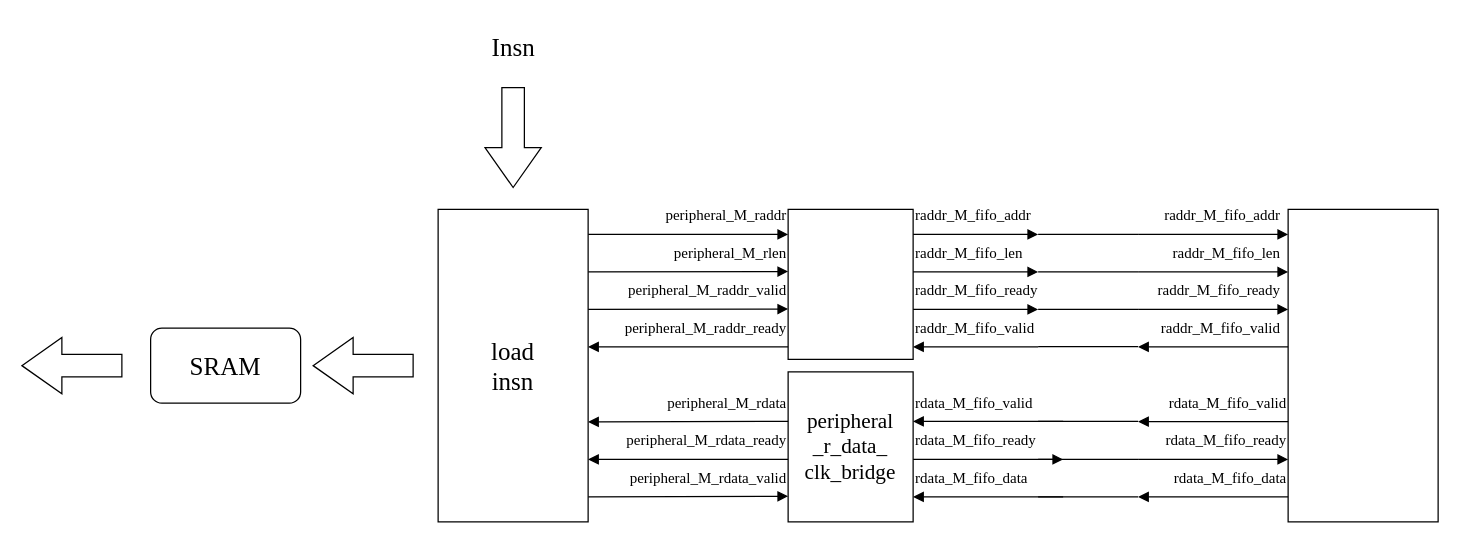
The diagram is 1460 pixels wide and 544 high, and some of its shapes have lost their labels. Here are the shapes that lost their labels. From the top down, the box of each, then its label:
(787, 208, 913, 359): peripheral _r_addr_ clk_bridge
(1287, 208, 1438, 522): axi4_full_ master_read_ interface
